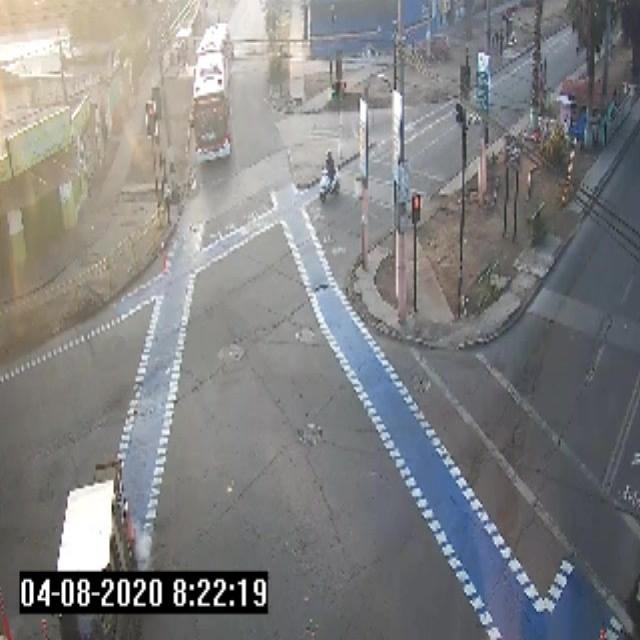AB: (190, 21, 238, 167)
